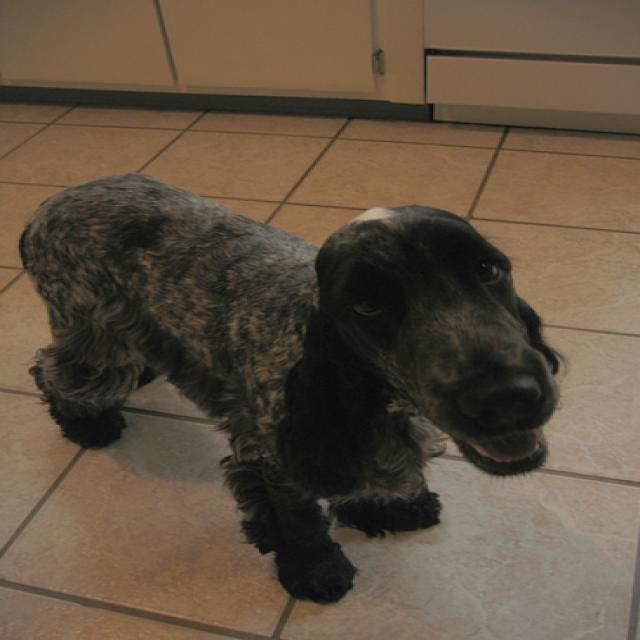dog-english_cocker_spaniel: (10, 159, 565, 612)
